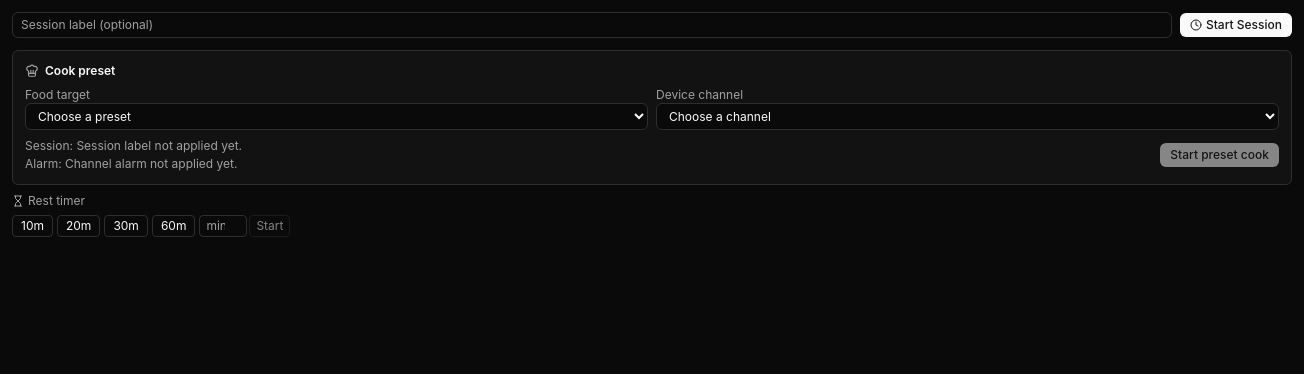
Test: SessionControls › inactive state › cook presets › shows per-step partial failure without hiding the successful session change
Step 1. Select "Pork - Pulled Pork (Tender) - 203°F" in the dropdown named "Cook preset" → (336, 116), box [25,103,648,130]
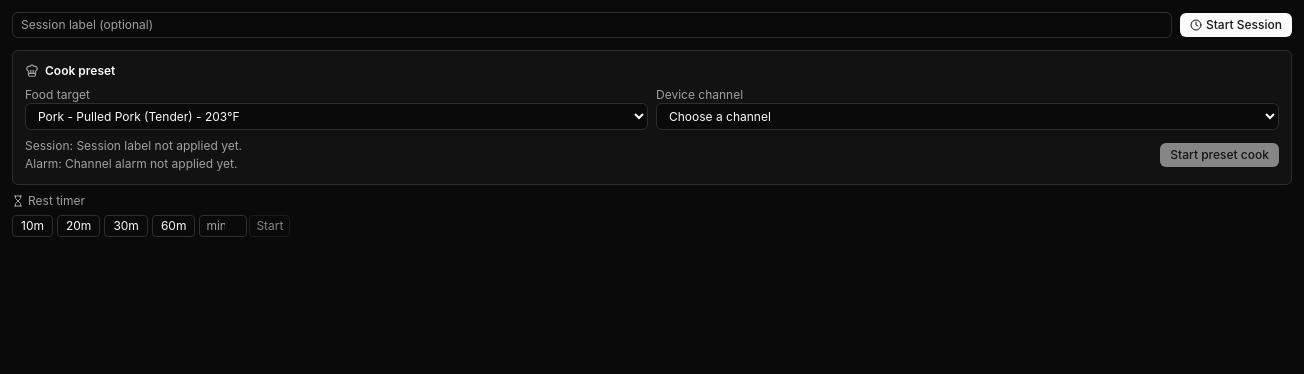
Step 2. Select "Probe scriptalert(1)/script (°F)" in the dropdown named "Preset channel" → (968, 116), box [656,103,1279,130]
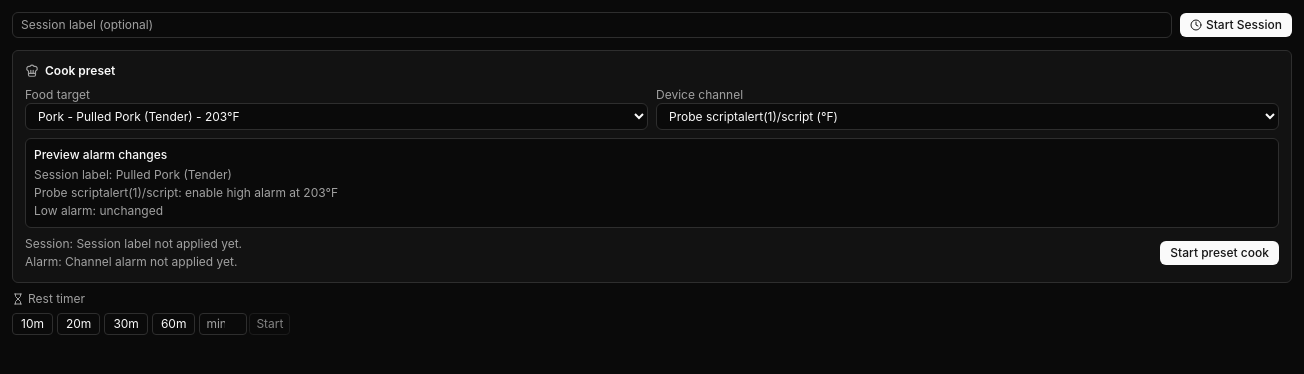
Step 3. Click the button "Start preset cook" → (1220, 253), box [1160,241,1279,265]
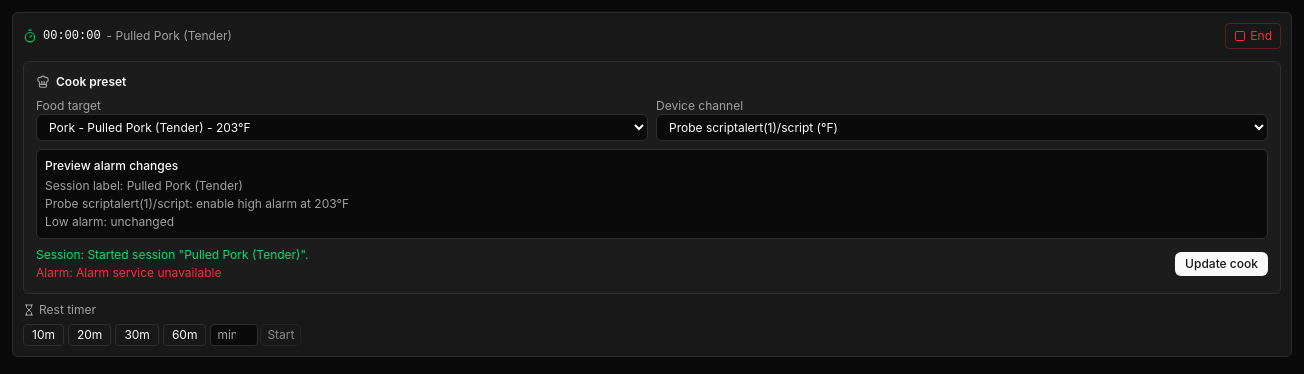
Check: the text "Session: Started session \"Pulled Pork (Tender)\"." is shown, box [36,247,308,263]
Check: the text "Alarm: Alarm service unavailable" is shown, box [36,265,221,280]
